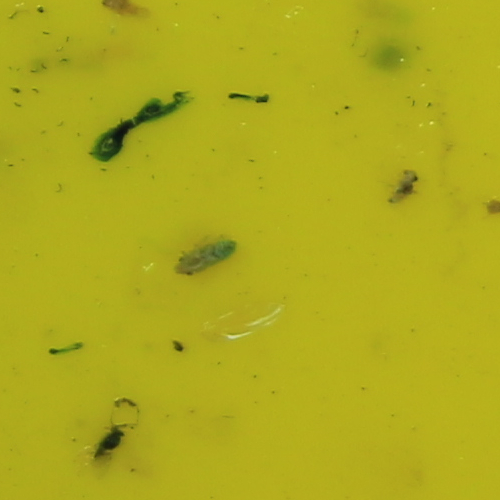Glycaspis: (167, 237, 241, 277)
